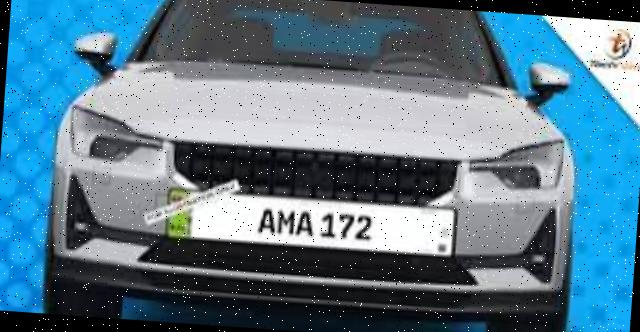License_Plate: (165, 185, 464, 270)
car: (34, 1, 593, 332)
